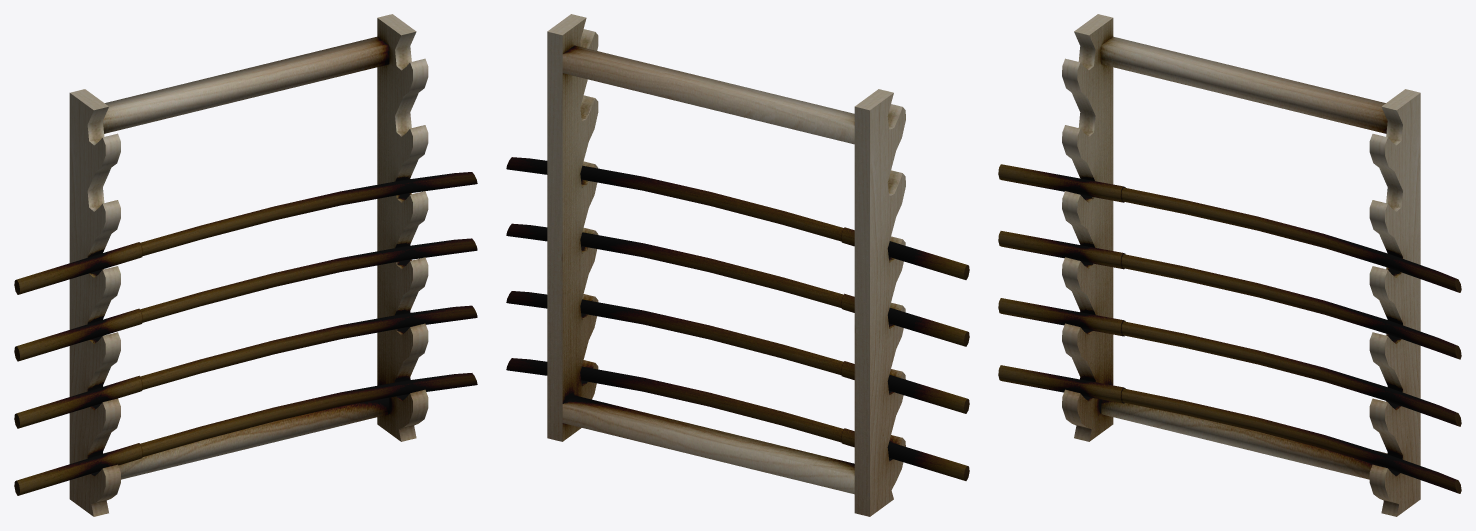
The model's file is bokken1.b.fbx.
3 renders of one model, left to right at view 1: azimuth 30°, elevation 25°; view 2: azimuth 150°, elevation 25°; view 3: azimuth 330°, elevation 25°, orthographic.
Parts seen in each view (by area): view 1: Group 0; view 2: Group 0; view 3: Group 0.
Part boxes in pixels (<box>): Group 0: <box>14,14,477,516</box>; Group 0: <box>506,14,969,516</box>; Group 0: <box>998,14,1461,516</box>.
Bounding box in the file's own units: 177 × 149 × 23.89.
1 material, 1 textured.
